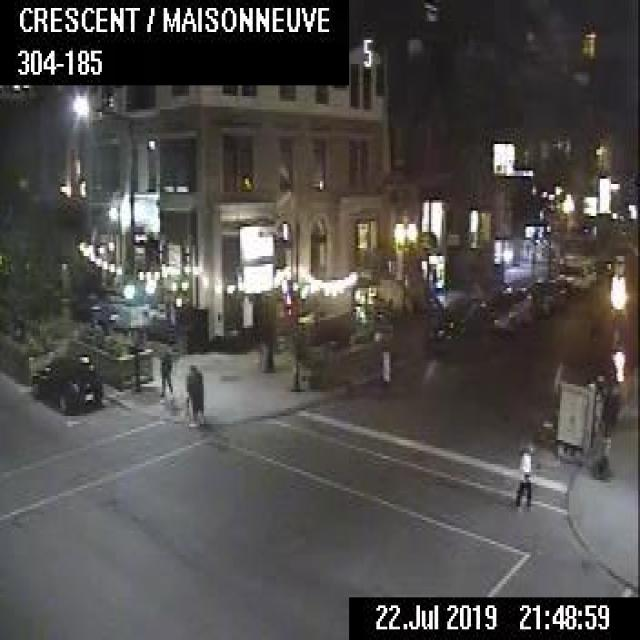pedestrian: (511, 446, 533, 510), (187, 370, 203, 427), (157, 348, 172, 398), (183, 363, 196, 418)
vehicle: (31, 349, 102, 411), (427, 294, 498, 351), (492, 284, 535, 326), (556, 251, 594, 291), (526, 277, 566, 315)
